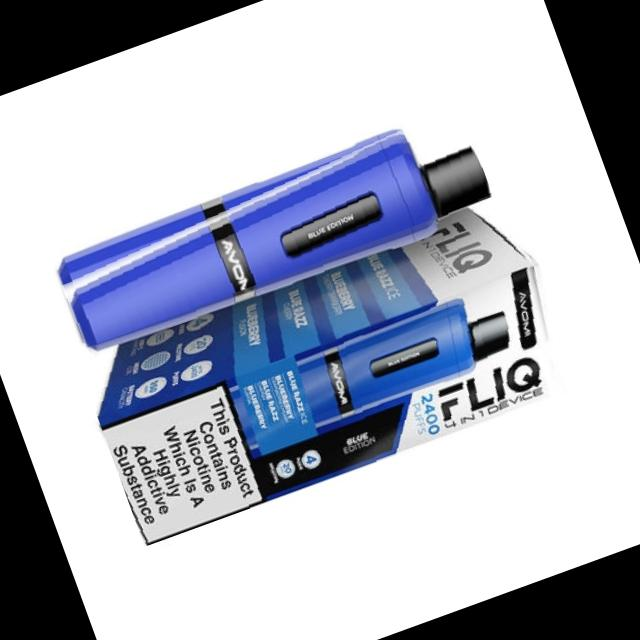Hazard: (72, 190, 583, 548), (49, 104, 498, 360)
